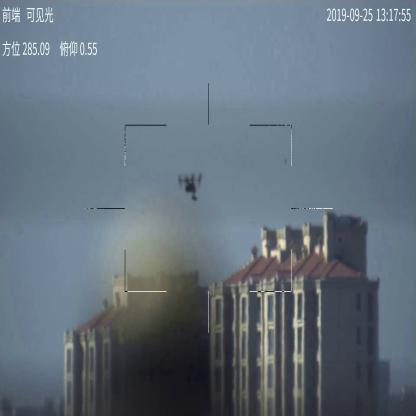uav: (177, 172, 204, 201)
